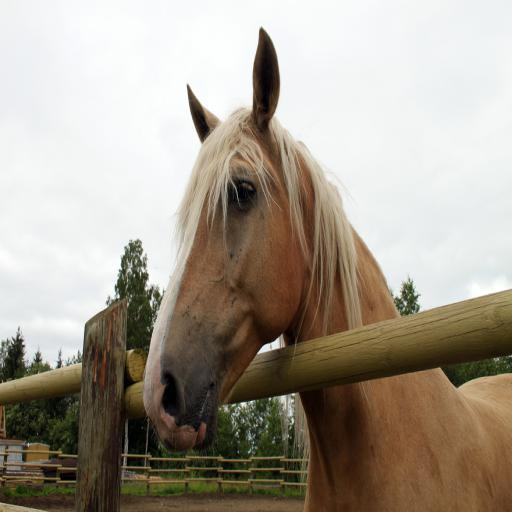horse: (139, 21, 512, 512)
